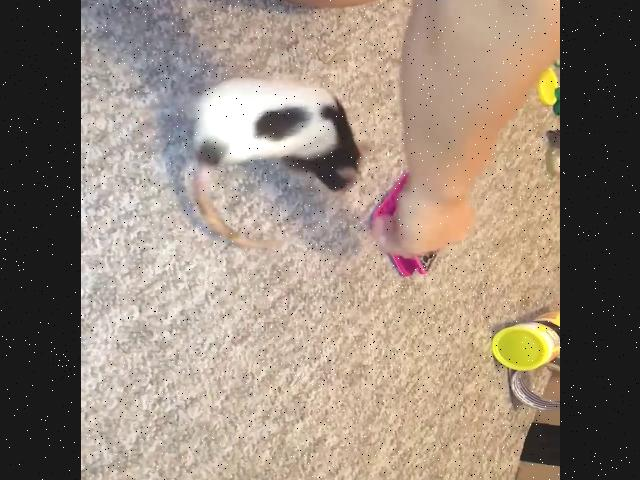Tikus: (186, 76, 370, 195)
